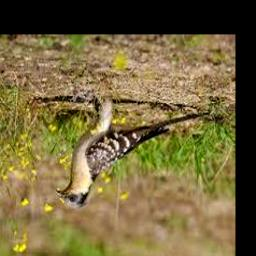Cuckoo: (56, 96, 209, 209)
